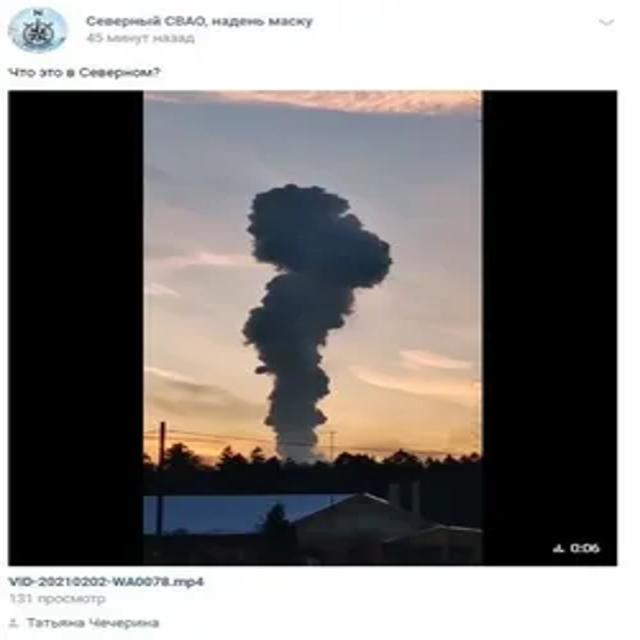Smoke: (240, 182, 394, 461)
